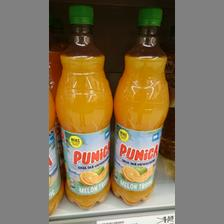Saft: (54, 4, 114, 208), (114, 5, 170, 205)
